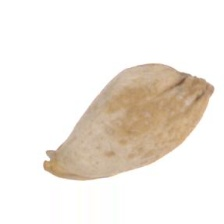L1: (42, 144, 80, 181), (175, 66, 214, 100)
L2: (42, 63, 214, 181)
